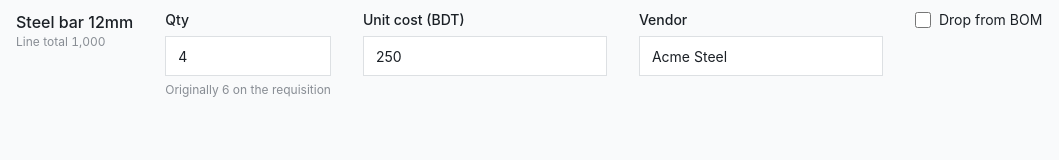
Test case: BomLineEditorRow — typing the source quantity › clamps above the source without blanking the field
The image size is (1059, 160).
Replace the text in the number field labelled "Qty" with "99". click: (248, 56)
box: [165,36,331,76]
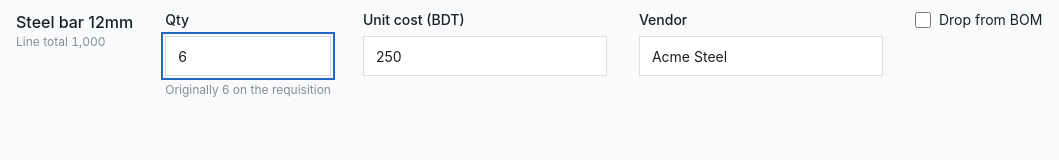
Expected: the number field labelled "Qty" holds "6", [165,36,331,76]
